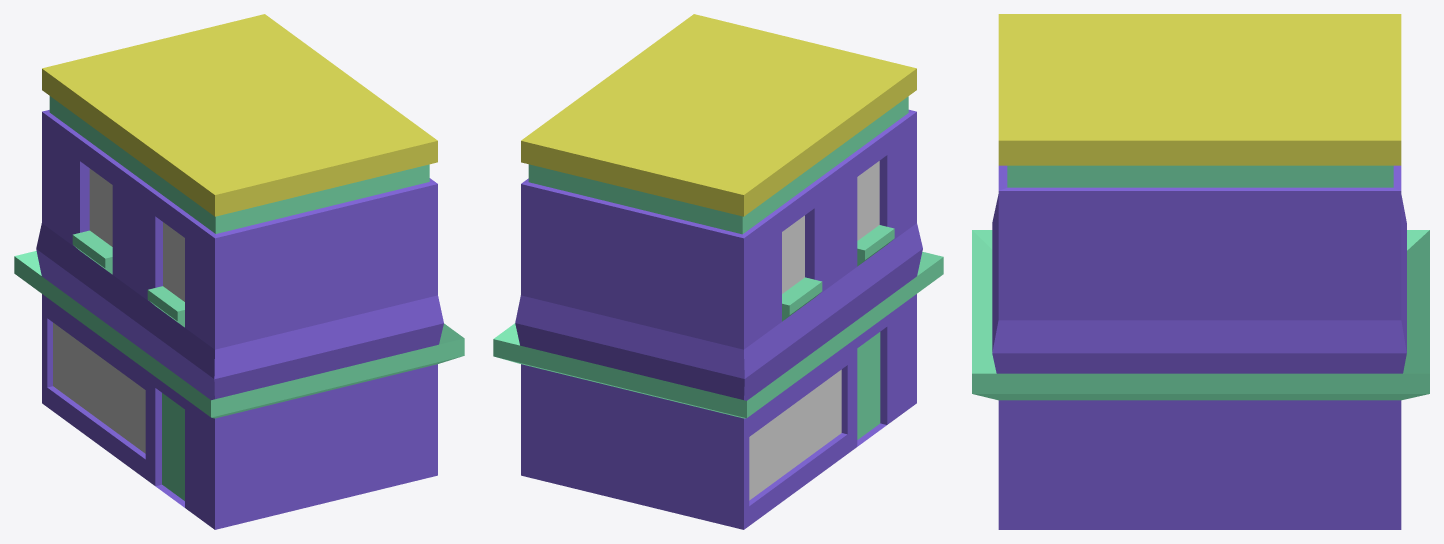
File: FBX_LC_mHouse_10.fbx
The picture shows the model from 3 angles, left to right: view 1: azimuth 30°, elevation 25°; view 2: azimuth 150°, elevation 25°; view 3: azimuth 270°, elevation 25°; orthographic projection. The views are drawn at different scales.
Visible parts, largest first — view 1: FBX_LC_mHouse_10; view 2: FBX_LC_mHouse_10; view 3: FBX_LC_mHouse_10.
Boxes of the visible parts, x1=… form: FBX_LC_mHouse_10: x1=14, y1=14, x2=464, y2=529; FBX_LC_mHouse_10: x1=493, y1=14, x2=943, y2=529; FBX_LC_mHouse_10: x1=972, y1=14, x2=1429, y2=529.
Size of the model in its own units: 794 by 1003 by 1068.
